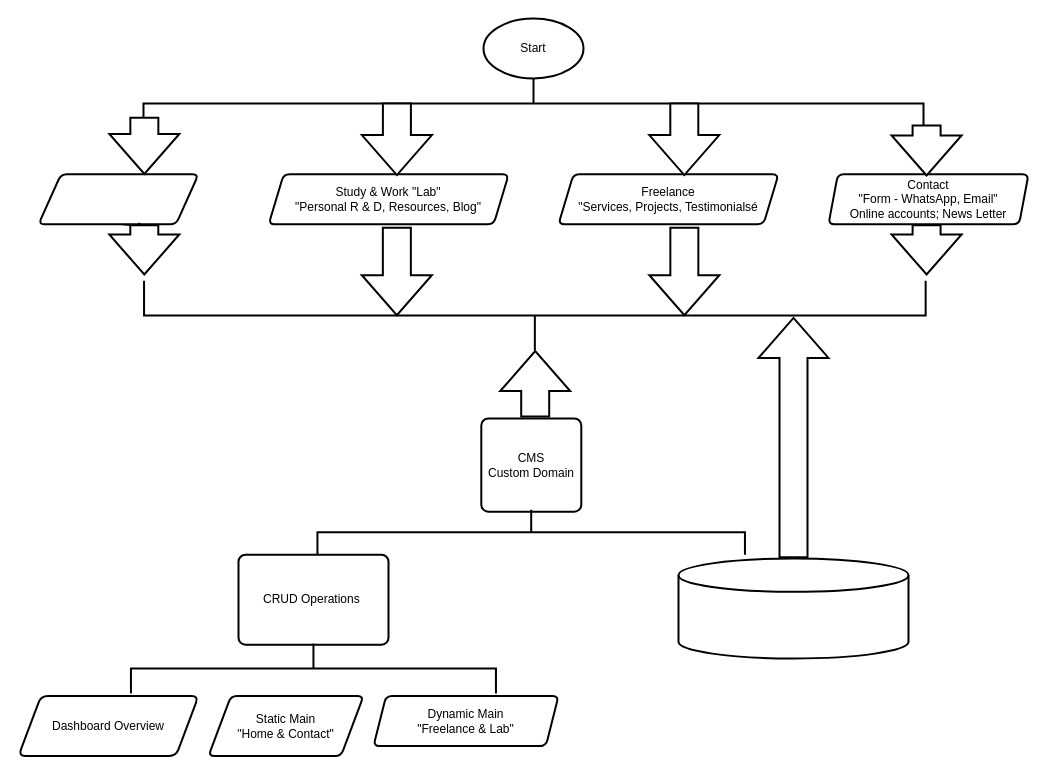
The diagram is 1046 pixels wide and 774 high, and some of its shapes have lost their labels. The centre of each missing label's shape, as x and y in pixels:
Database or Placeholder: (793,608)
Home Page "Simple CV version": (118,199)
